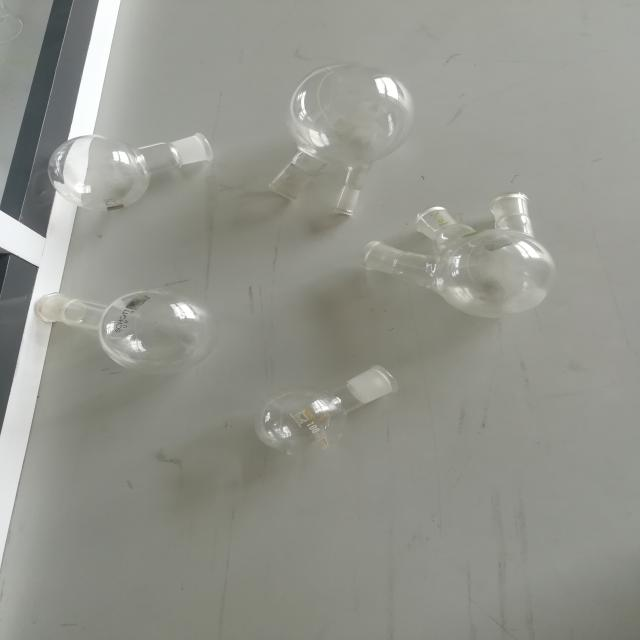Round_Bottom_Flask_Borosilicate_Glass_1_Neck: (33, 112, 246, 239), (15, 264, 228, 380), (245, 357, 418, 474)
Round_Bottom_Flask_Borosilicate_Glass_2_Neck: (250, 42, 431, 240)
Round_Bottom_Flask_Borosilicate_Glass_3_Neck: (332, 183, 595, 337)
